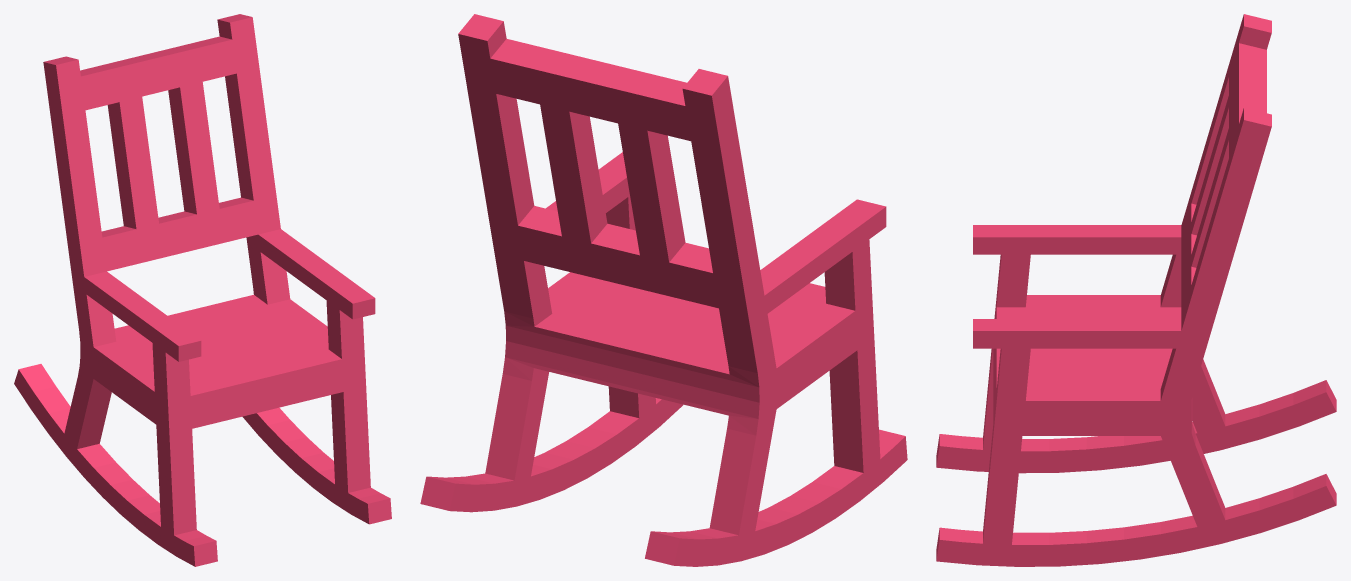
3 renders of one model, left to right at view 1: azimuth 30°, elevation 25°; view 2: azimuth 150°, elevation 25°; view 3: azimuth 270°, elevation 25°, orthographic. The views are drawn at different scales.
Parts seen in each view (by area): view 1: Object_2; view 2: Object_2; view 3: Object_2.
Boxes of the visible parts, x1=… form: Object_2: x1=14, y1=14, x2=391, y2=566; Object_2: x1=420, y1=14, x2=907, y2=566; Object_2: x1=936, y1=14, x2=1336, y2=566.
Size of the model in its own units: 19.5 by 38.35 by 31.11.
